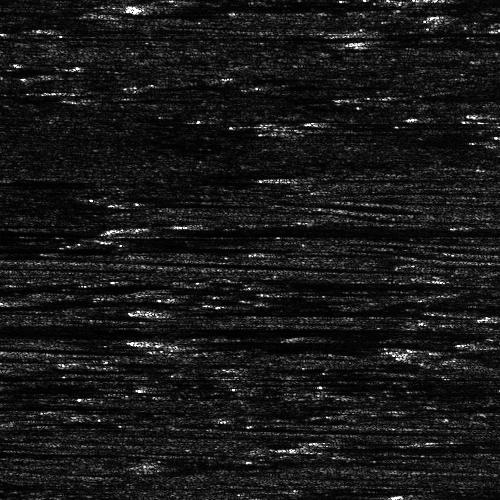rock: (235, 19, 444, 48), (338, 345, 500, 358), (97, 219, 180, 238), (81, 0, 174, 16), (103, 336, 208, 349), (336, 89, 429, 102), (228, 119, 343, 128), (254, 171, 327, 184), (287, 439, 360, 452), (145, 455, 186, 470), (129, 80, 202, 87), (444, 338, 500, 347), (367, 37, 420, 46), (253, 248, 306, 255), (200, 303, 273, 308), (368, 492, 441, 497), (107, 199, 170, 204), (0, 298, 56, 303), (476, 131, 500, 142), (379, 0, 484, 2), (0, 321, 18, 326)
shadow: (139, 219, 485, 238), (340, 19, 500, 48), (166, 455, 451, 470), (128, 0, 322, 16), (291, 171, 500, 184), (156, 336, 365, 349), (0, 326, 336, 333), (324, 439, 500, 452), (0, 321, 383, 326), (0, 336, 319, 341), (383, 89, 500, 102), (0, 63, 127, 74), (286, 119, 429, 128), (0, 243, 92, 254), (394, 37, 500, 46), (0, 299, 136, 306), (0, 281, 100, 290), (432, 345, 500, 358), (237, 303, 378, 308), (20, 298, 153, 303), (0, 385, 77, 392), (0, 405, 177, 408), (280, 248, 351, 255), (405, 492, 500, 497), (166, 80, 232, 87), (0, 177, 49, 186), (0, 7, 44, 16), (139, 199, 208, 204)
